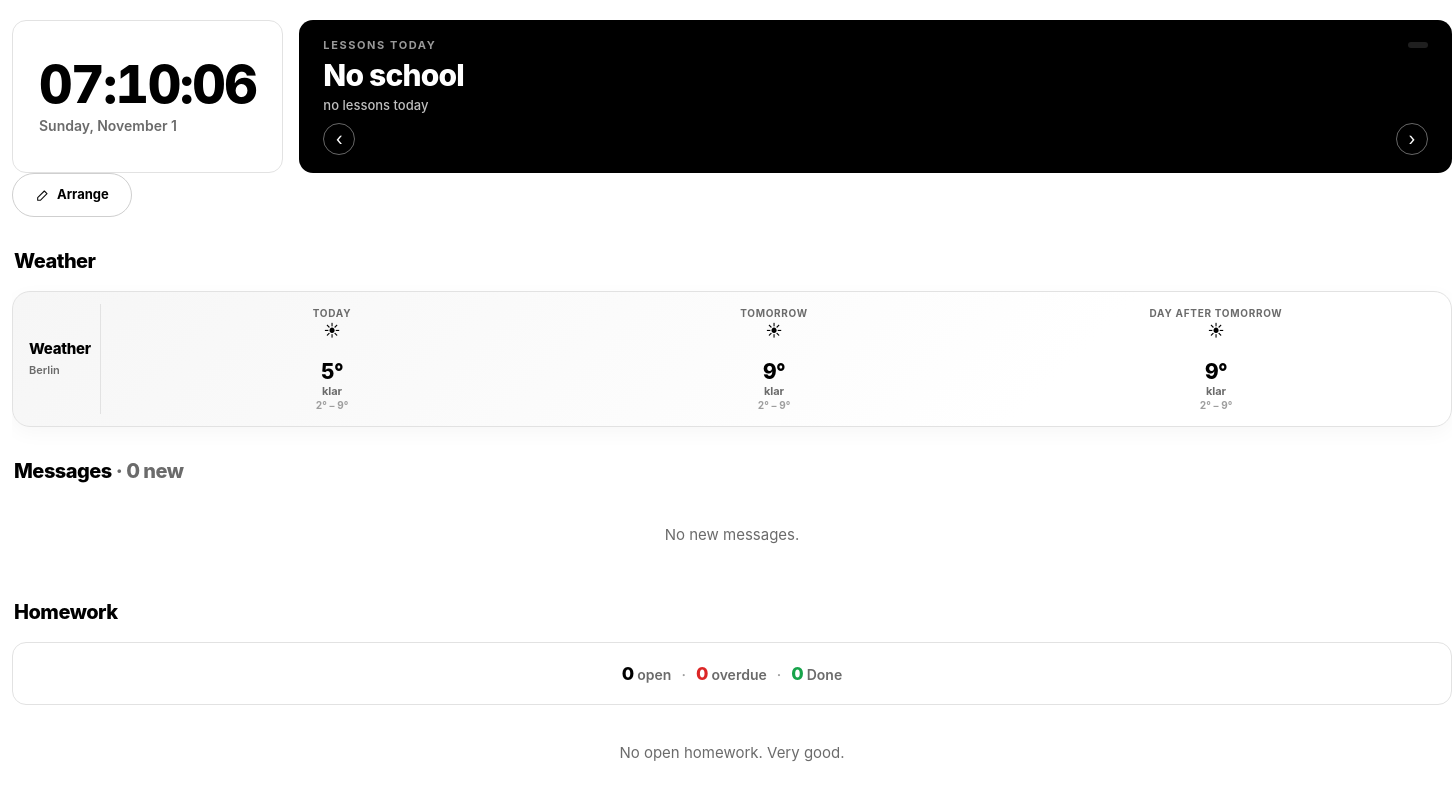
Scenario: OverviewView – Layout-Editor › haengt einen ausgeblendeten Abschnitt nach dem Verlassen des Editors ganz aus
Expected: the text "Berlin" is shown, x1=29 y1=363 x2=60 y2=377
What coordinates should you click on to do the following:
click the button "Arrange"
I would click on:
 (72, 194)
Its box is x1=12 y1=172 x2=132 y2=216.
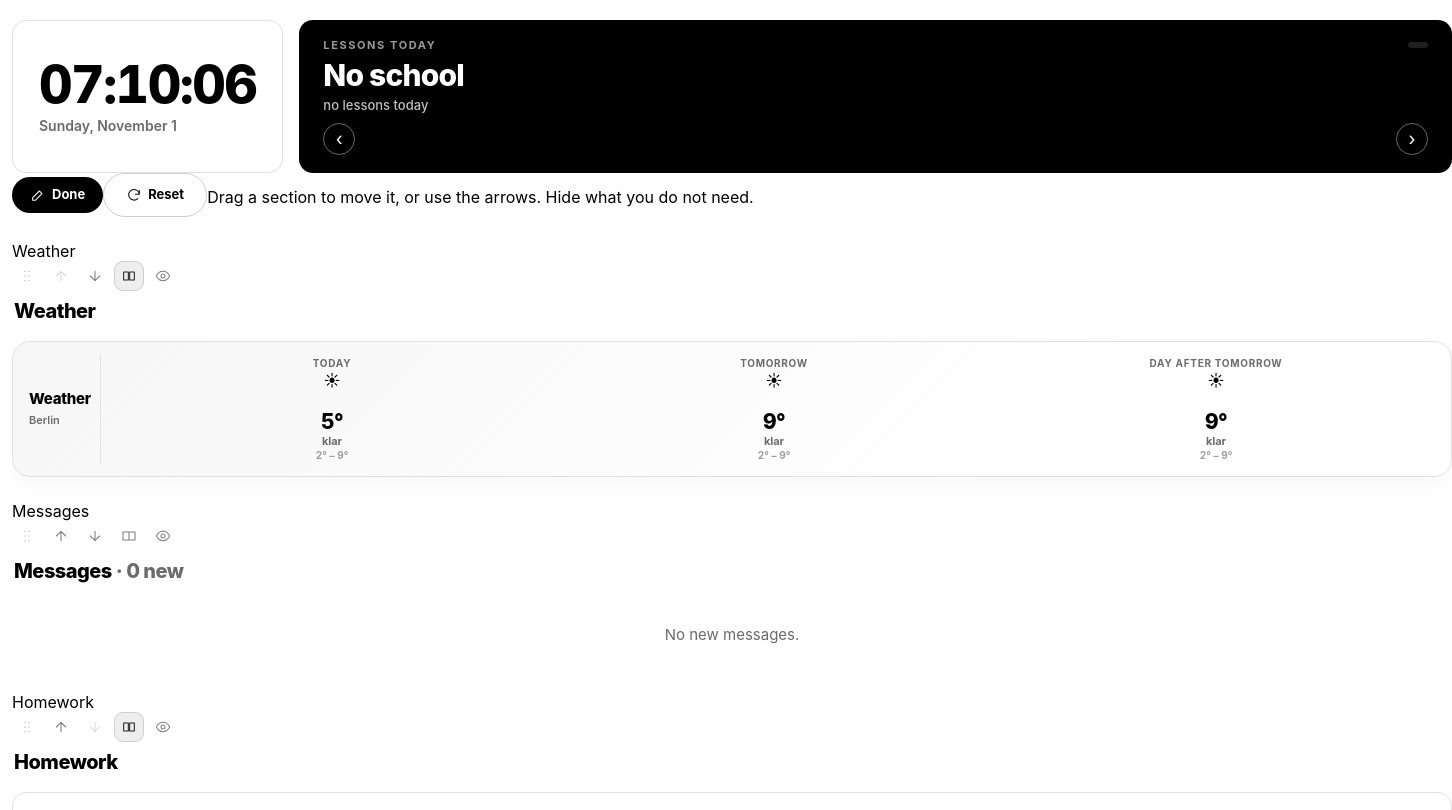
What coordinates should you click on to do the following:
click the button named "Hide section: Weather"
I would click on:
 (163, 276)
Its box is x1=148 y1=260 x2=178 y2=290.
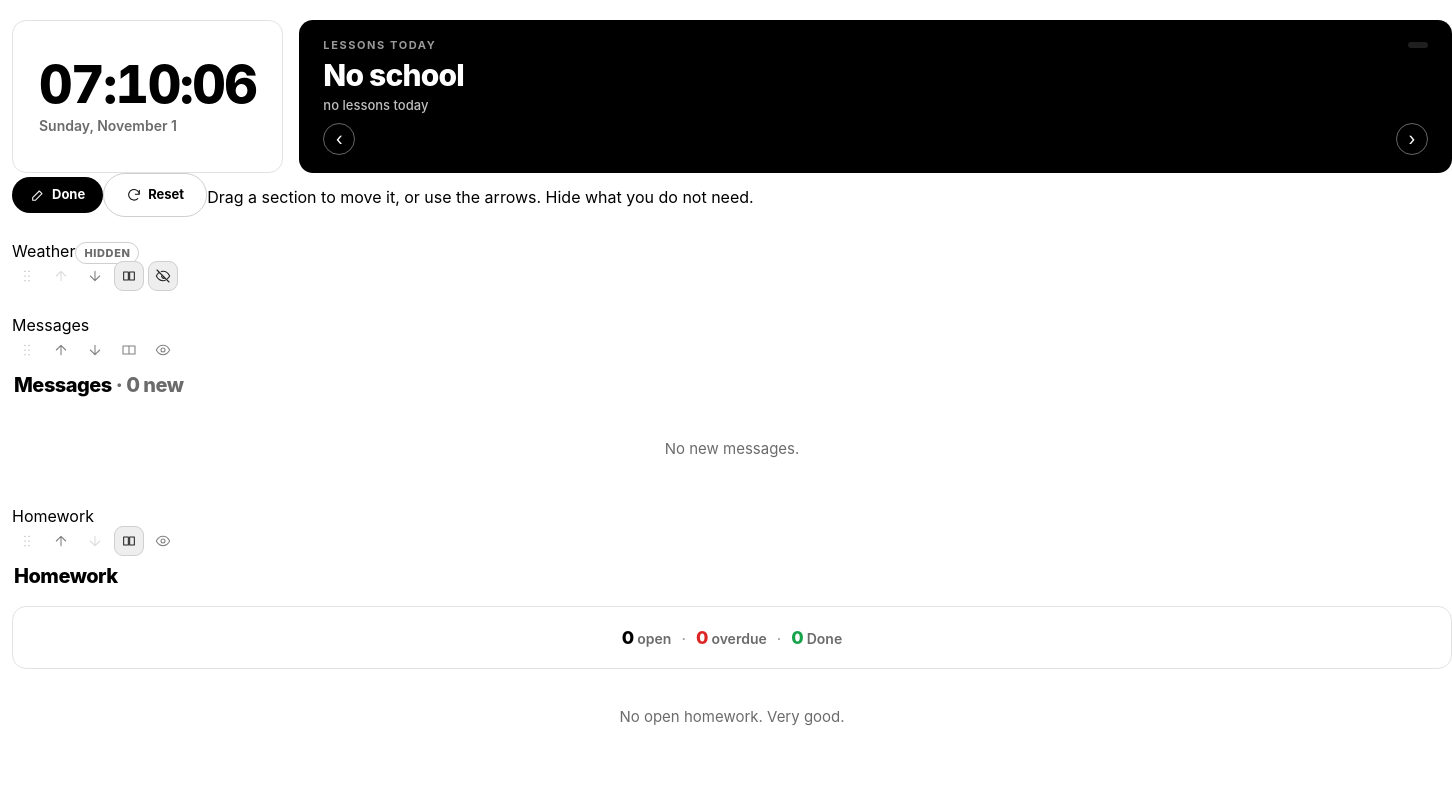
What coordinates should you click on to do the following:
click the button "Done"
I would click on:
 (58, 194)
Its box is x1=12 y1=176 x2=103 y2=212.
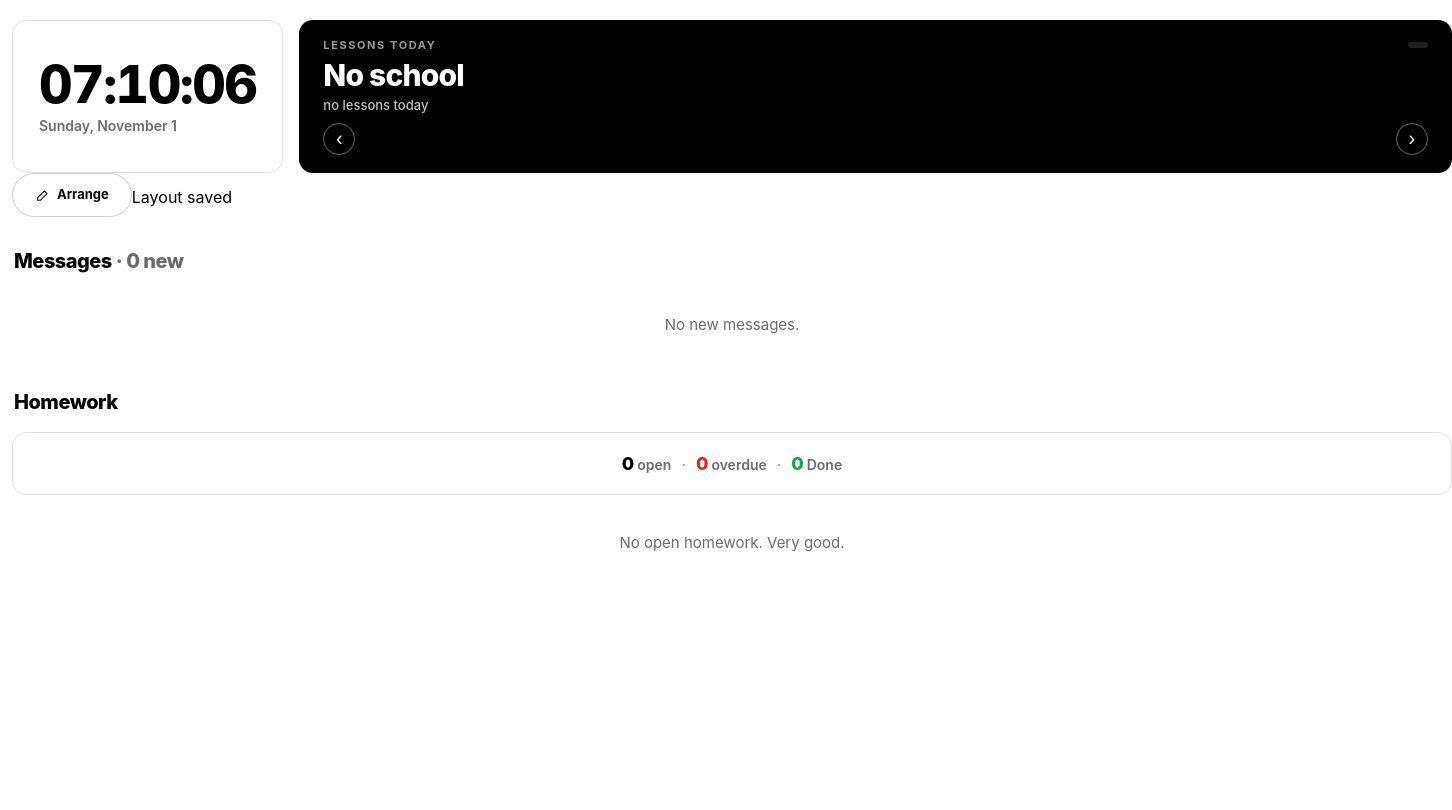
Expected: the number of elements with class "ov-slot" is 2, x1=14 y1=248 x2=799 y2=334; x1=12 y1=382 x2=1451 y2=576
